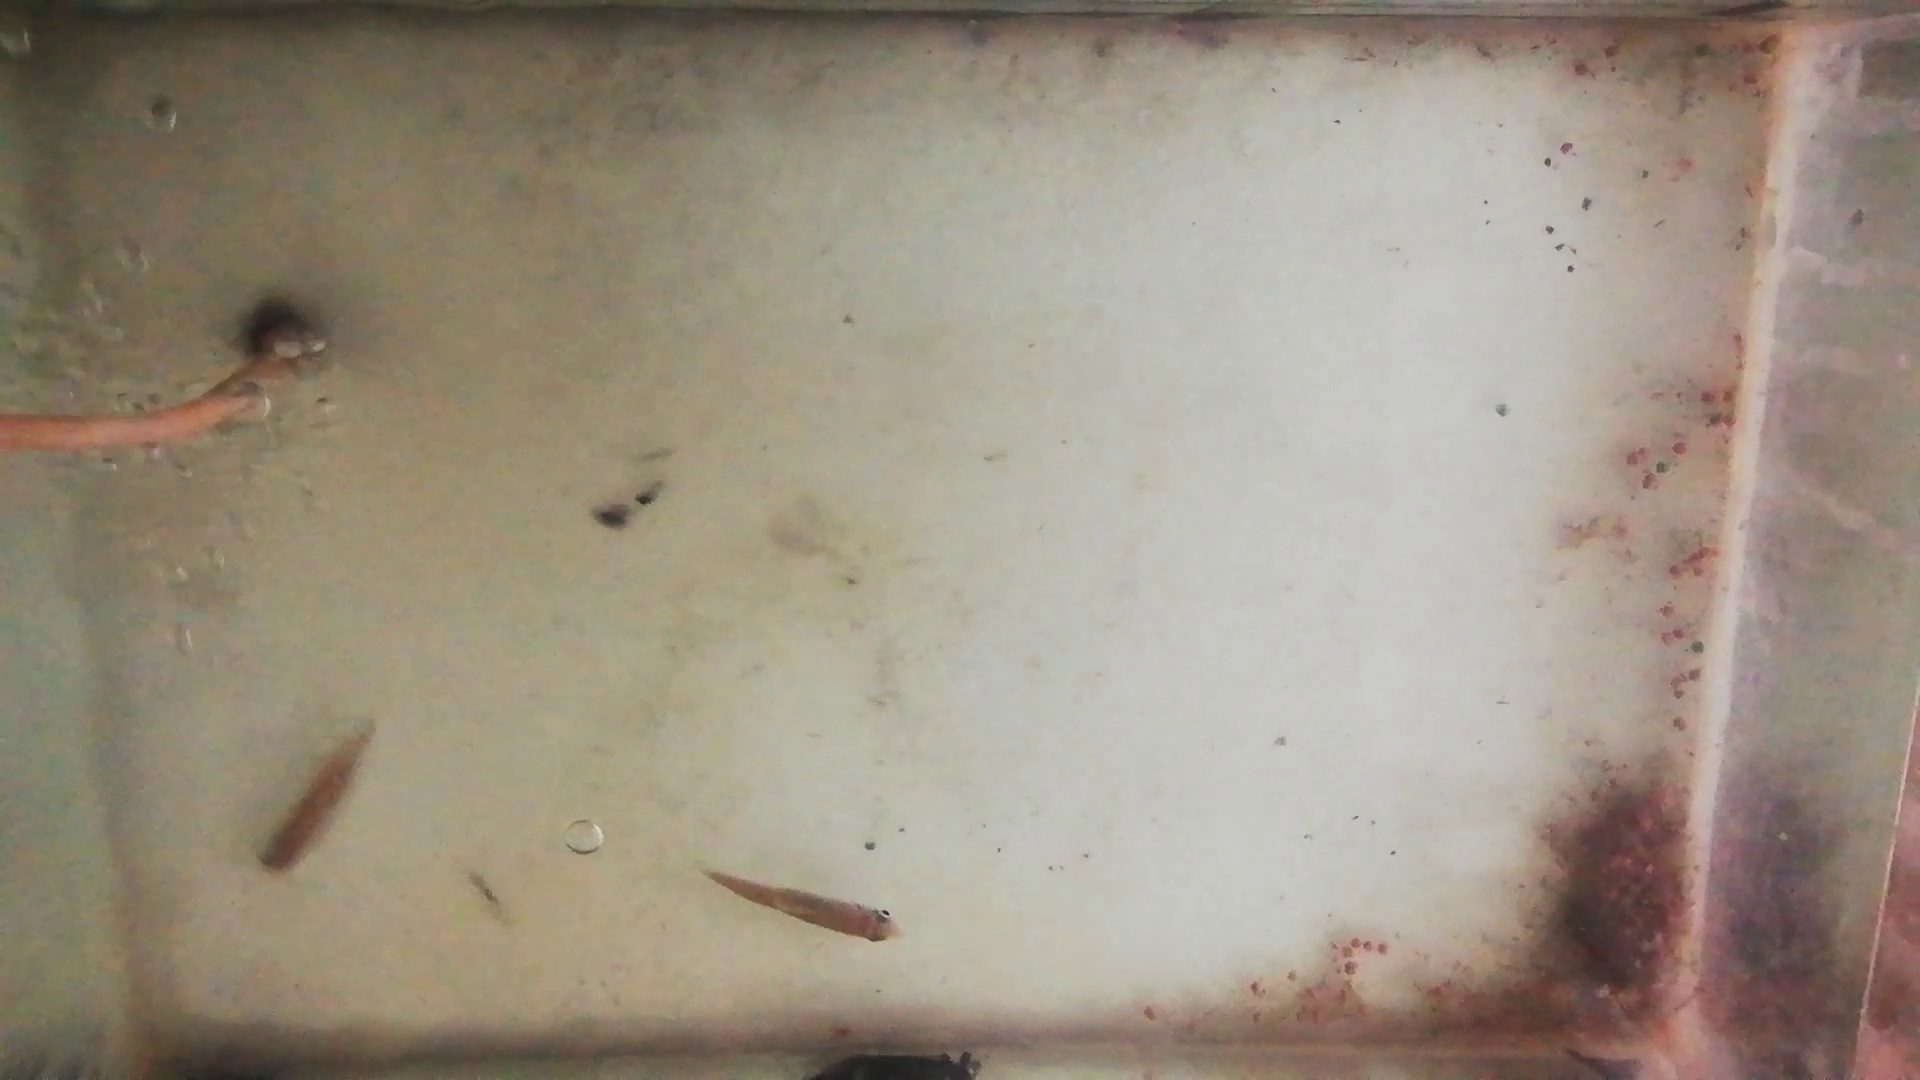fish: (255, 723, 378, 874), (705, 872, 902, 945)
